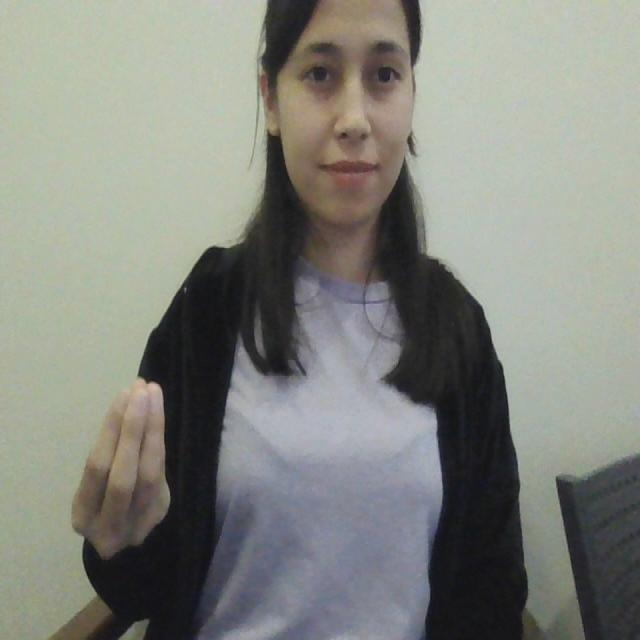iyi: (67, 378, 176, 566)
